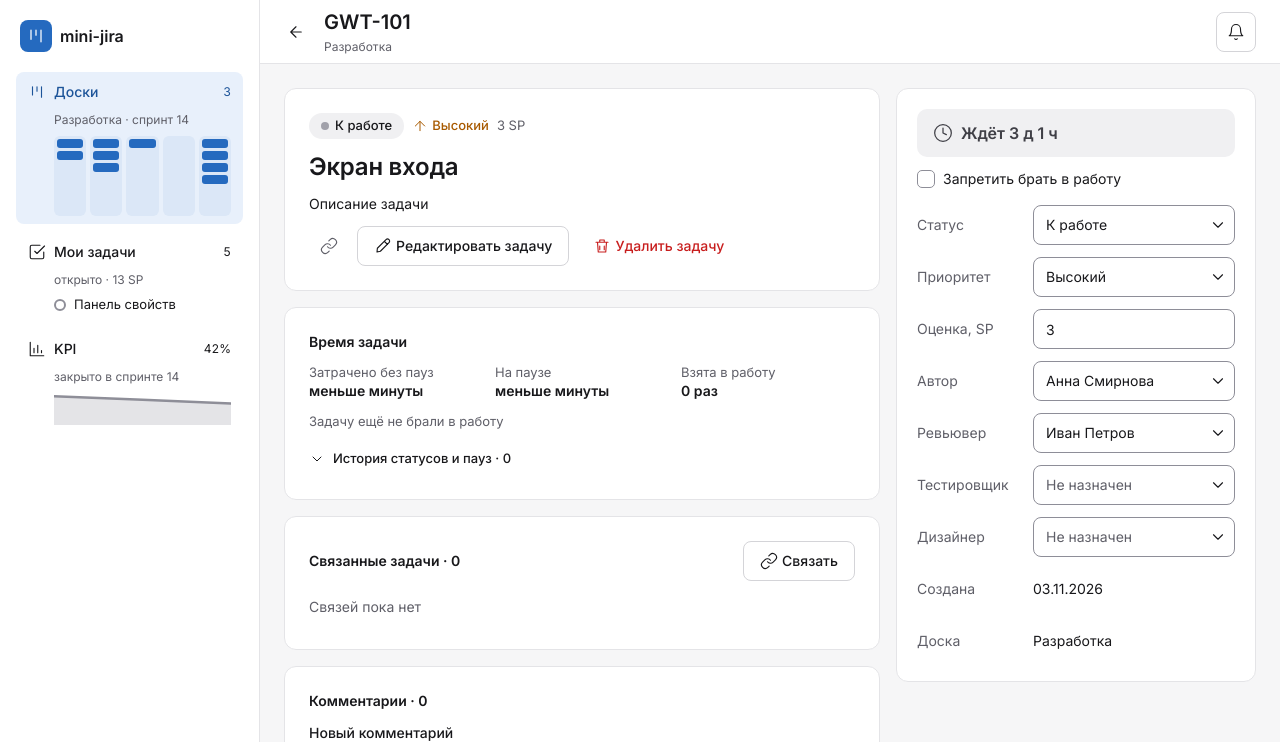
Test: сохранение фильтров доски › открывает старую ссылку на задачу с фильтрами для возврата на доску
Expected: the heading "Экран входа" is shown, x1=309 y1=152 x2=458 y2=180
Step 1. Click the button named "Назад" → point(296, 32), box x1=276 y1=12 x2=316 y2=52
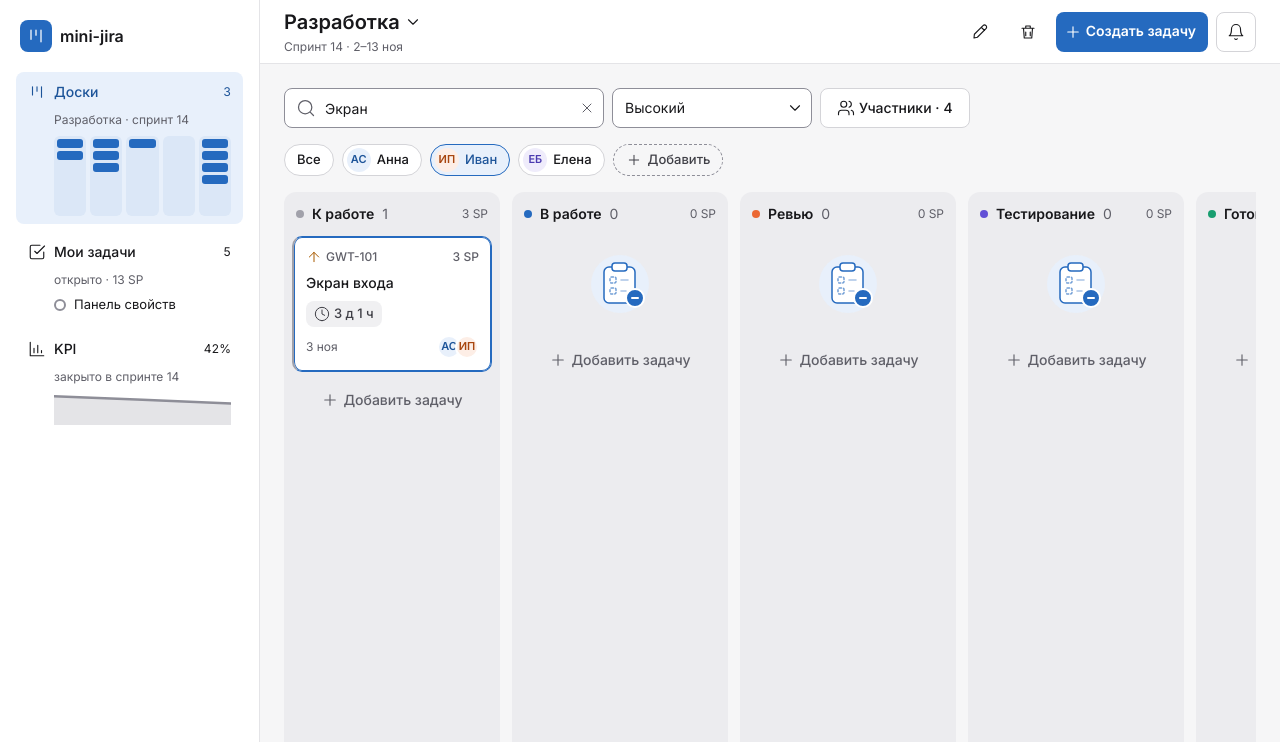
Expected: the search field named "Поиск по названию или ключу" holds "Экран", x1=284 y1=88 x2=604 y2=128
Expected: the dropdown named "Приоритет" shows "Высокий", x1=612 y1=88 x2=812 y2=128
